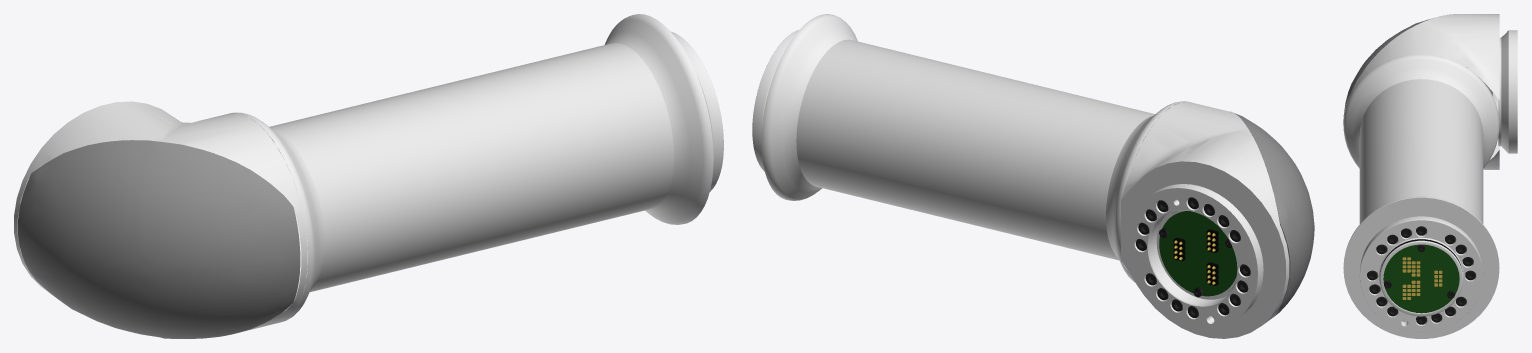
3 renders of one model, left to right at view 1: azimuth 30°, elevation 25°; view 2: azimuth 150°, elevation 25°; view 3: azimuth 270°, elevation 25°, orthographic. The views are drawn at different scales.
Visible parts, largest first — view 1: L86.001; view 2: L86.001; view 3: L86.001.
Part boxes in pixels (x1,y1,x2,y2): L86.001: (14, 14, 723, 338); L86.001: (752, 14, 1314, 338); L86.001: (1343, 14, 1517, 338).
Bounding box in the file's own units: 0.2879 × 0.0862 × 0.0961.
